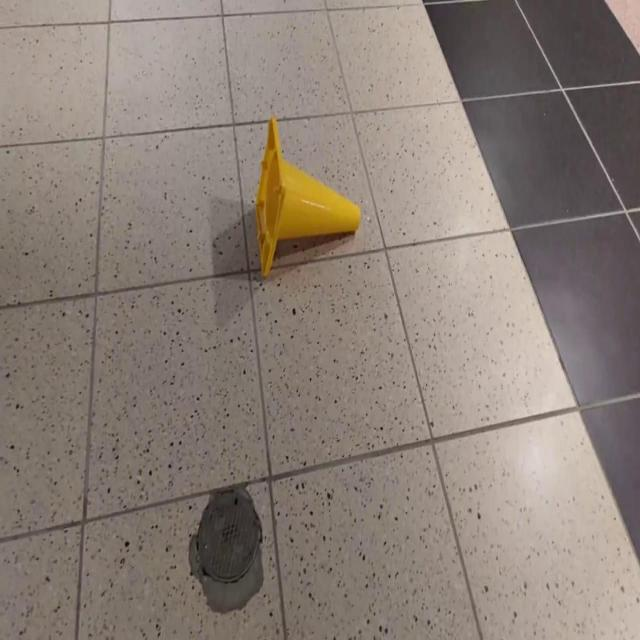frc_cone: (254, 115, 361, 278)
